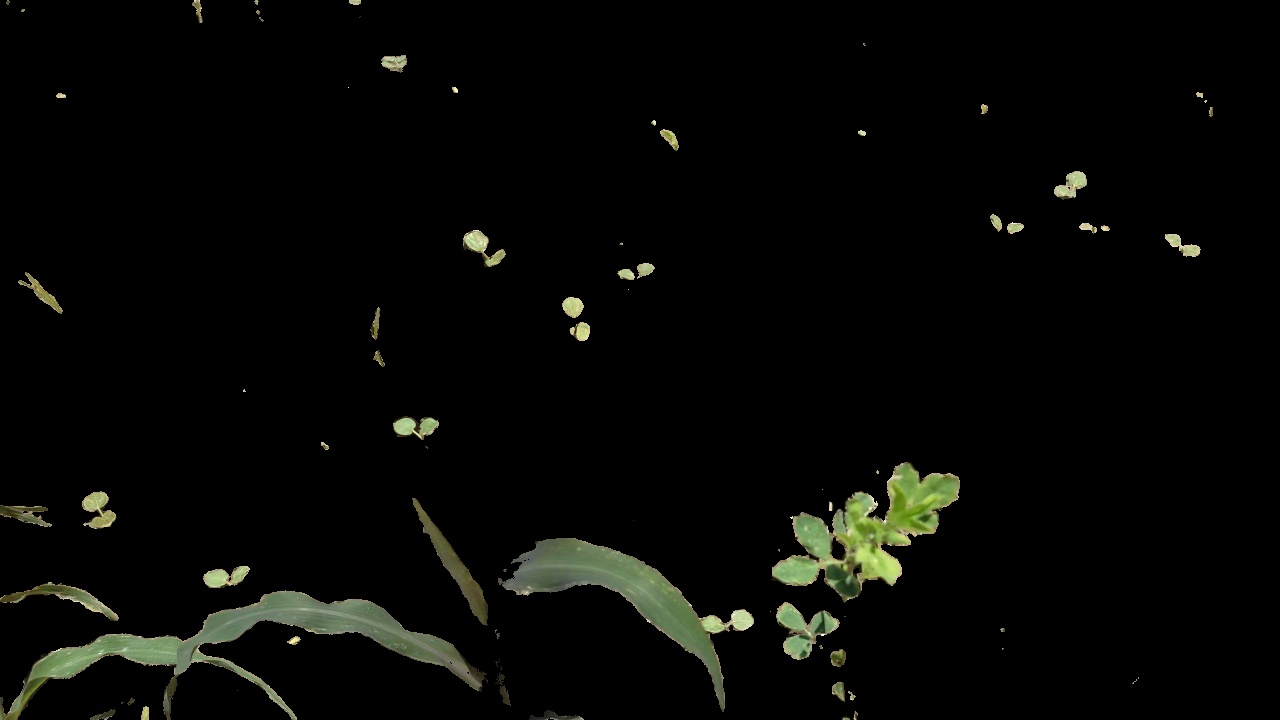crop: (171, 498, 731, 720)
weed: (767, 458, 986, 594), (772, 601, 869, 719), (460, 224, 510, 278), (76, 481, 124, 536), (555, 291, 595, 348), (387, 410, 442, 445), (610, 255, 658, 295), (701, 601, 754, 637), (986, 205, 1033, 242), (199, 562, 257, 588), (1158, 227, 1205, 259), (1046, 168, 1087, 199), (1077, 217, 1115, 237)
